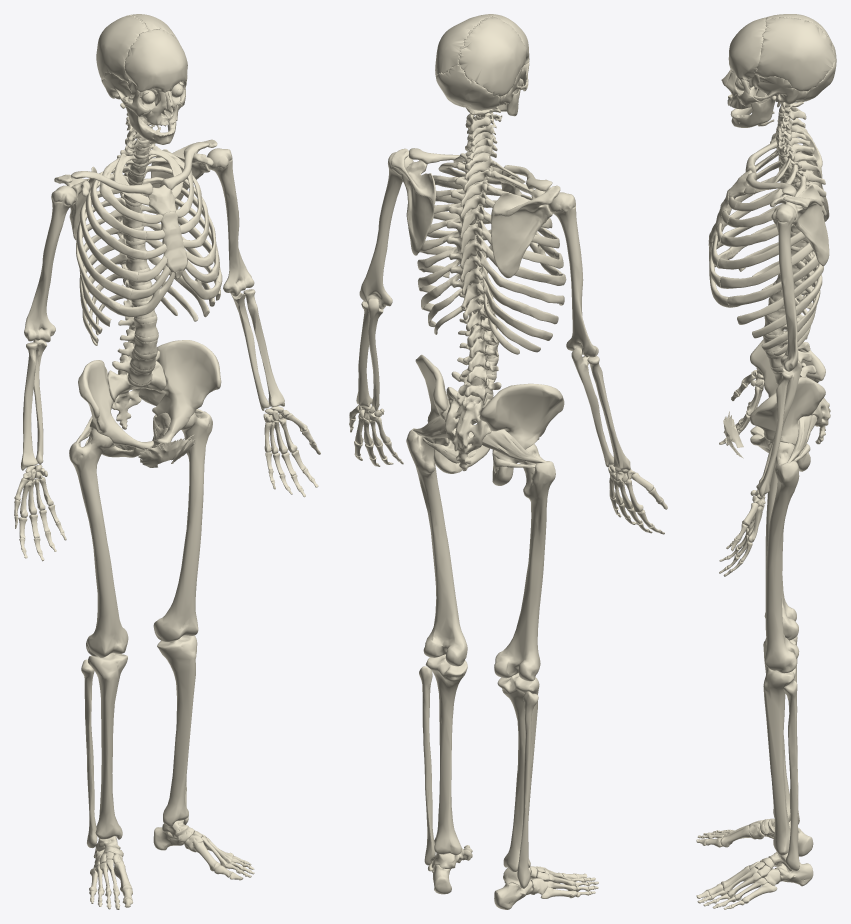
File: skeletal.glb
The picture shows the model from 3 angles, left to right: view 1: azimuth 30°, elevation 25°; view 2: azimuth 150°, elevation 25°; view 3: azimuth 270°, elevation 25°; orthographic projection. The views are drawn at different scales.
Visible parts, largest first — view 1: rib-cage, femur, pelvis, skull, lower-leg-bones, spine, humerus, hand-bones, foot-bones, forearm-bones, other-bones; view 2: spine, rib-cage, femur, lower-leg-bones, pelvis, skull, other-bones, humerus, forearm-bones, foot-bones, hand-bones; view 3: rib-cage, skull, femur, lower-leg-bones, pelvis, spine, foot-bones, other-bones, humerus, hand-bones, forearm-bones.
Boxes of the visible parts, left/top/right/bottom form: rib-cage: left=76, top=145, right=222, bottom=345; femur: left=69, top=411, right=212, bottom=657; pelvis: left=75, top=340, right=221, bottom=467; skull: left=96, top=14, right=187, bottom=144; lower-leg-bones: left=81, top=635, right=197, bottom=848; spine: left=107, top=99, right=166, bottom=429; humerus: left=24, top=148, right=254, bottom=342; hand-bones: left=14, top=406, right=320, bottom=561; foot-bones: left=89, top=820, right=254, bottom=909; forearm-bones: left=21, top=289, right=284, bottom=470; other-bones: left=54, top=139, right=217, bottom=240; spine: left=445, top=107, right=501, bottom=471; rib-cage: left=417, top=156, right=566, bottom=354; femur: left=406, top=428, right=555, bottom=681; lower-leg-bones: left=419, top=654, right=539, bottom=888; pelvis: left=413, top=354, right=564, bottom=485; skull: left=435, top=14, right=529, bottom=121; other-bones: left=391, top=148, right=560, bottom=278; humerus: left=359, top=152, right=598, bottom=357; forearm-bones: left=356, top=298, right=630, bottom=470; foot-bones: left=428, top=845, right=598, bottom=909; hand-bones: left=349, top=404, right=667, bottom=534; rib-cage: left=708, top=144, right=824, bottom=356; skull: left=721, top=14, right=836, bottom=127; femur: left=764, top=442, right=799, bottom=673; lower-leg-bones: left=763, top=636, right=799, bottom=870; pelvis: left=723, top=330, right=825, bottom=471; spine: left=763, top=102, right=830, bottom=444; foot-bones: left=696, top=818, right=813, bottom=909; other-bones: left=745, top=124, right=829, bottom=266; humerus: left=771, top=131, right=798, bottom=371; hand-bones: left=719, top=370, right=765, bottom=576; forearm-bones: left=756, top=360, right=801, bottom=497.
Size of the model in its own units: 1.3 by 3.41 by 0.5081.
